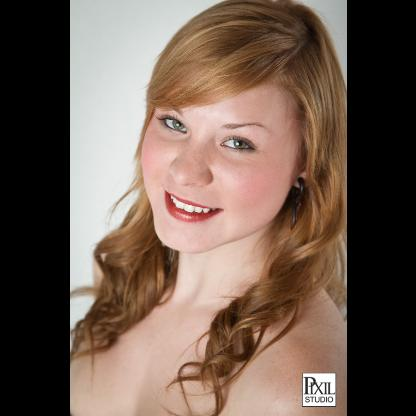Female: (140, 74, 310, 250)
